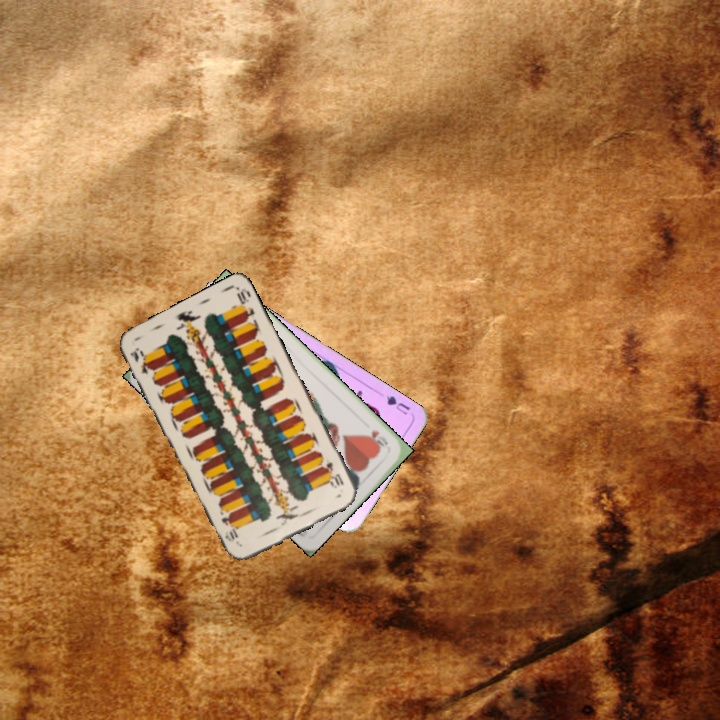E10: (126, 343, 157, 380), (320, 458, 347, 491)
GU: (382, 391, 413, 417)
HO: (367, 426, 390, 451)
